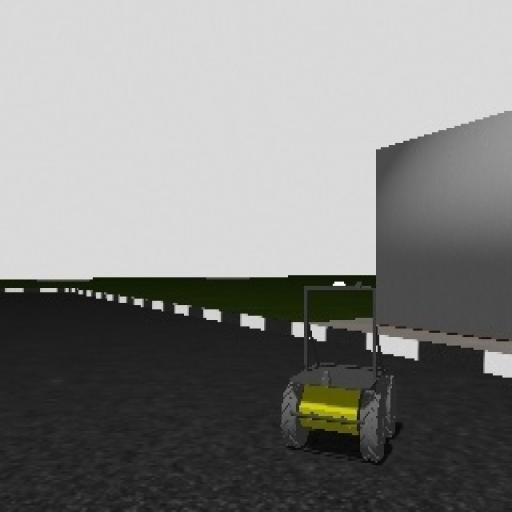huskya200: (276, 278, 402, 470)
